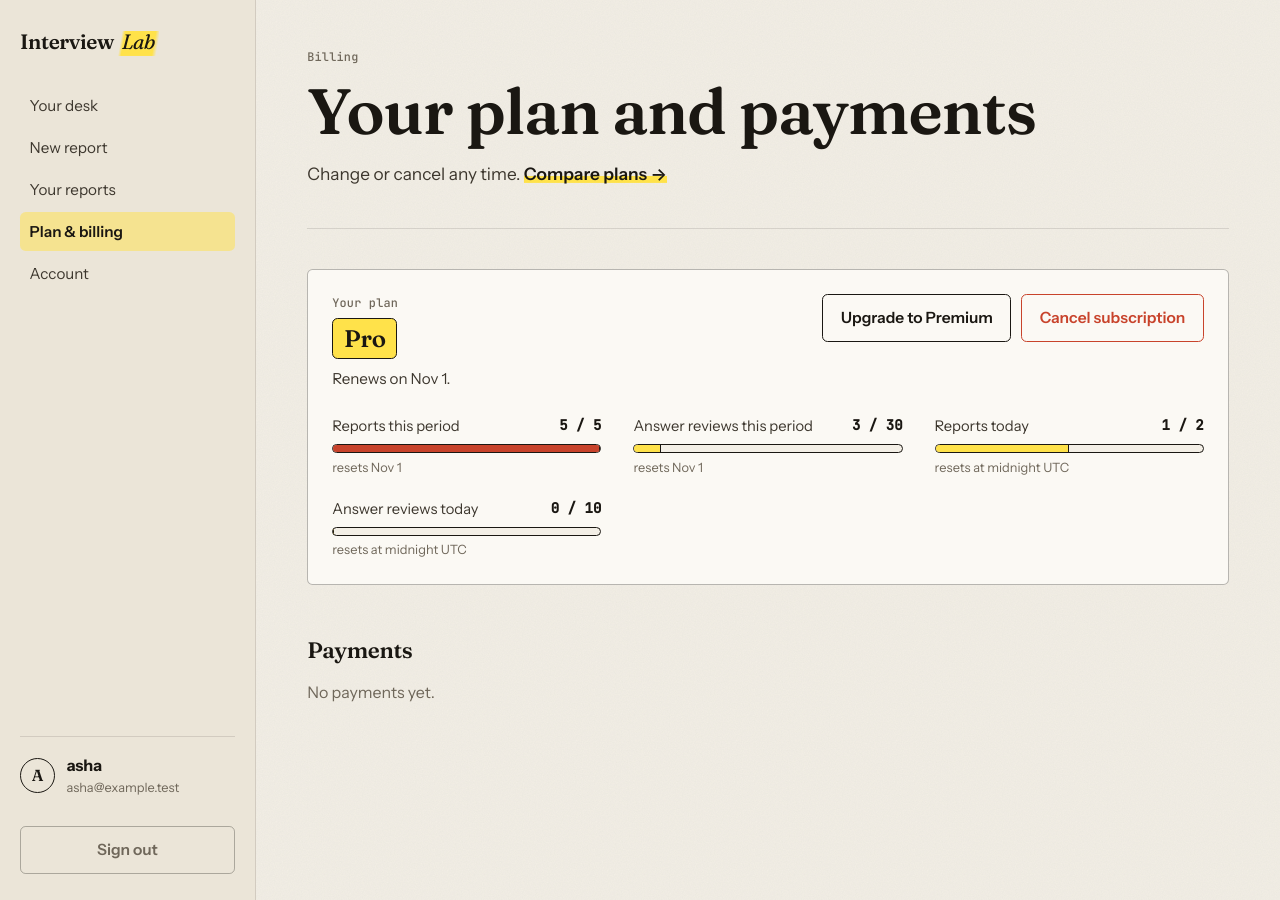
Test: Billing page › shows the server's reason when a change is refused
The image size is (1280, 900).
Click the button "Upgrade to Premium": coordinates (917, 318) x1=822 y1=294 x2=1012 y2=342
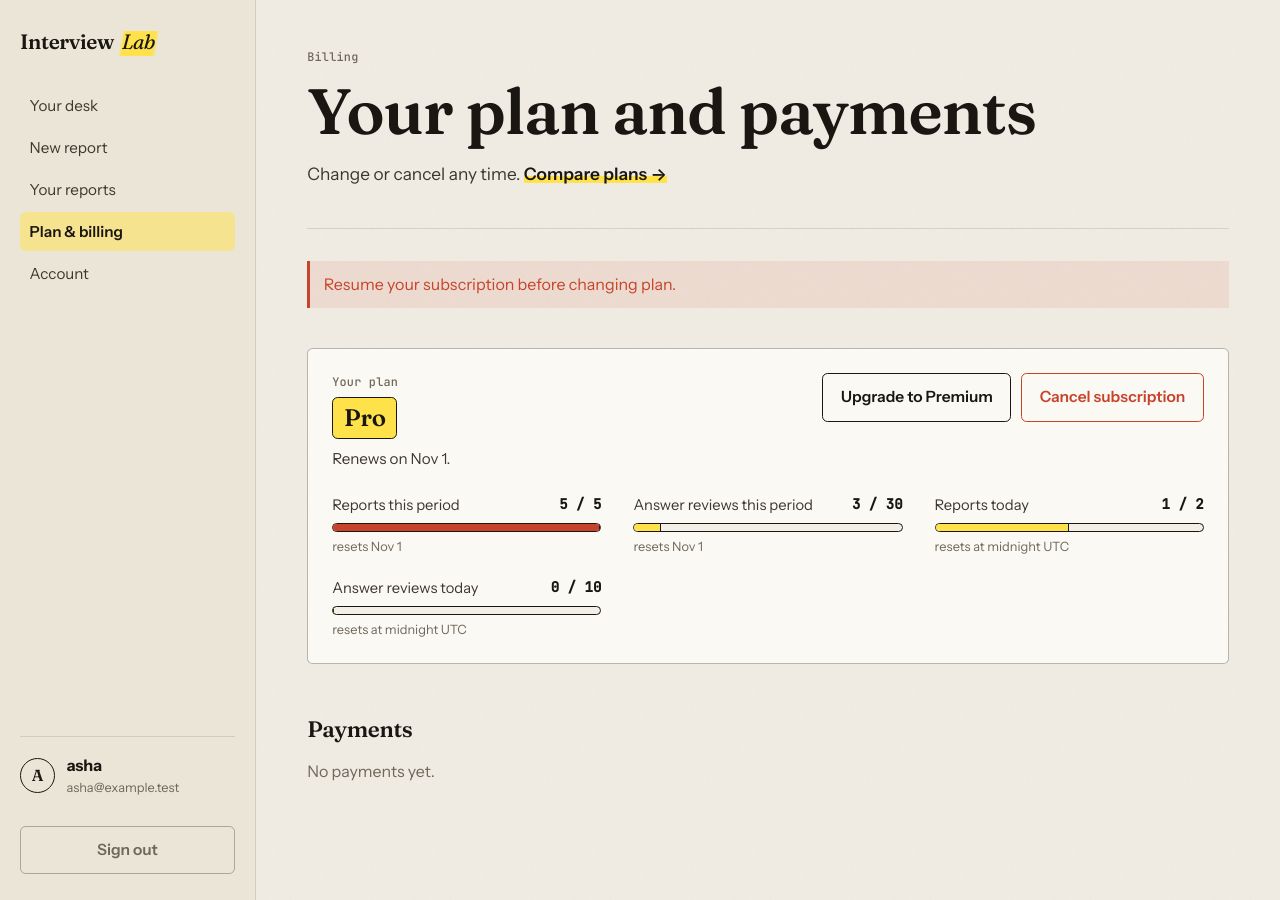
Expected: the message reads "Resume your subscription before changing plan.", x1=324 y1=274 x2=676 y2=294
